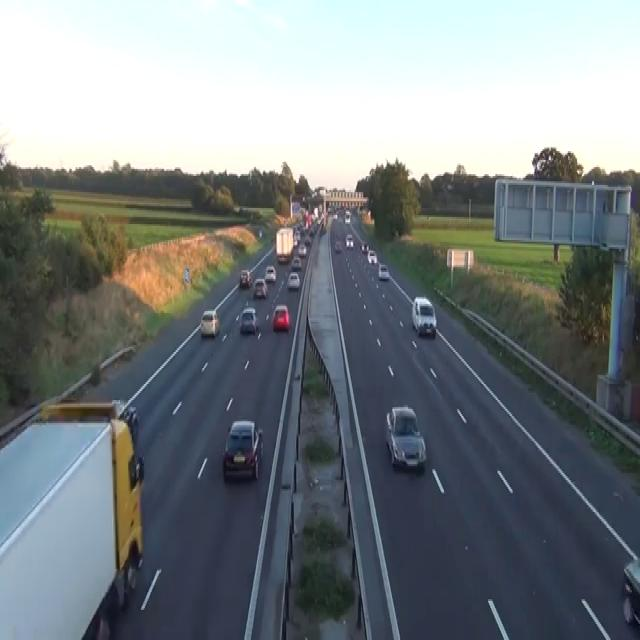Car: (385, 406, 426, 470), (222, 419, 263, 482), (112, 398, 139, 444), (622, 556, 639, 626), (411, 295, 436, 338), (271, 304, 290, 331), (200, 309, 219, 336), (240, 306, 257, 332), (253, 277, 268, 299), (286, 272, 300, 290), (239, 268, 251, 288), (264, 265, 276, 283), (378, 263, 389, 279), (367, 249, 377, 263), (291, 256, 301, 270), (345, 233, 353, 249), (297, 244, 306, 256), (278, 254, 288, 263), (334, 240, 341, 252), (361, 242, 369, 252), (344, 210, 350, 222), (327, 204, 335, 213), (304, 234, 311, 243), (309, 226, 315, 236), (293, 237, 298, 247), (321, 224, 326, 233), (258, 228, 262, 236), (333, 212, 337, 218)
Truck: (0, 396, 144, 638), (275, 226, 293, 263)
